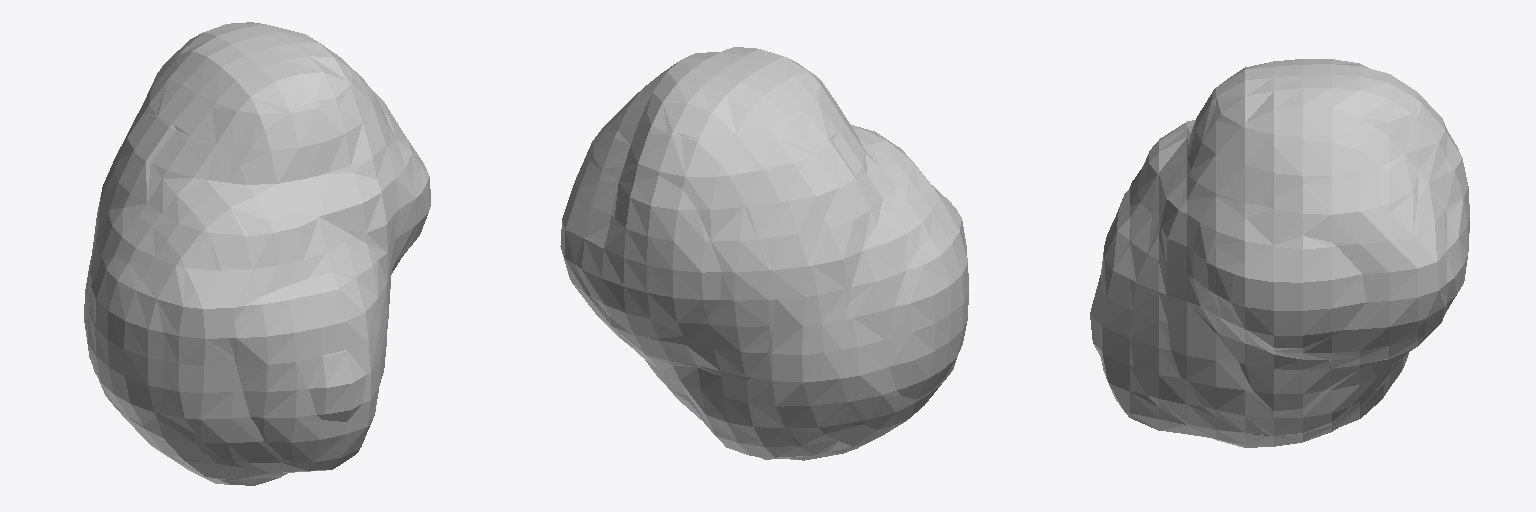
The model's file is 1rkq_1_cms.obj.
3 views of the same model, side by side, from view 1: azimuth 30°, elevation 25°; view 2: azimuth 150°, elevation 25°; view 3: azimuth 270°, elevation 25° (orthographic).
Size of the model in its own units: 61.95 by 69.17 by 61.43.